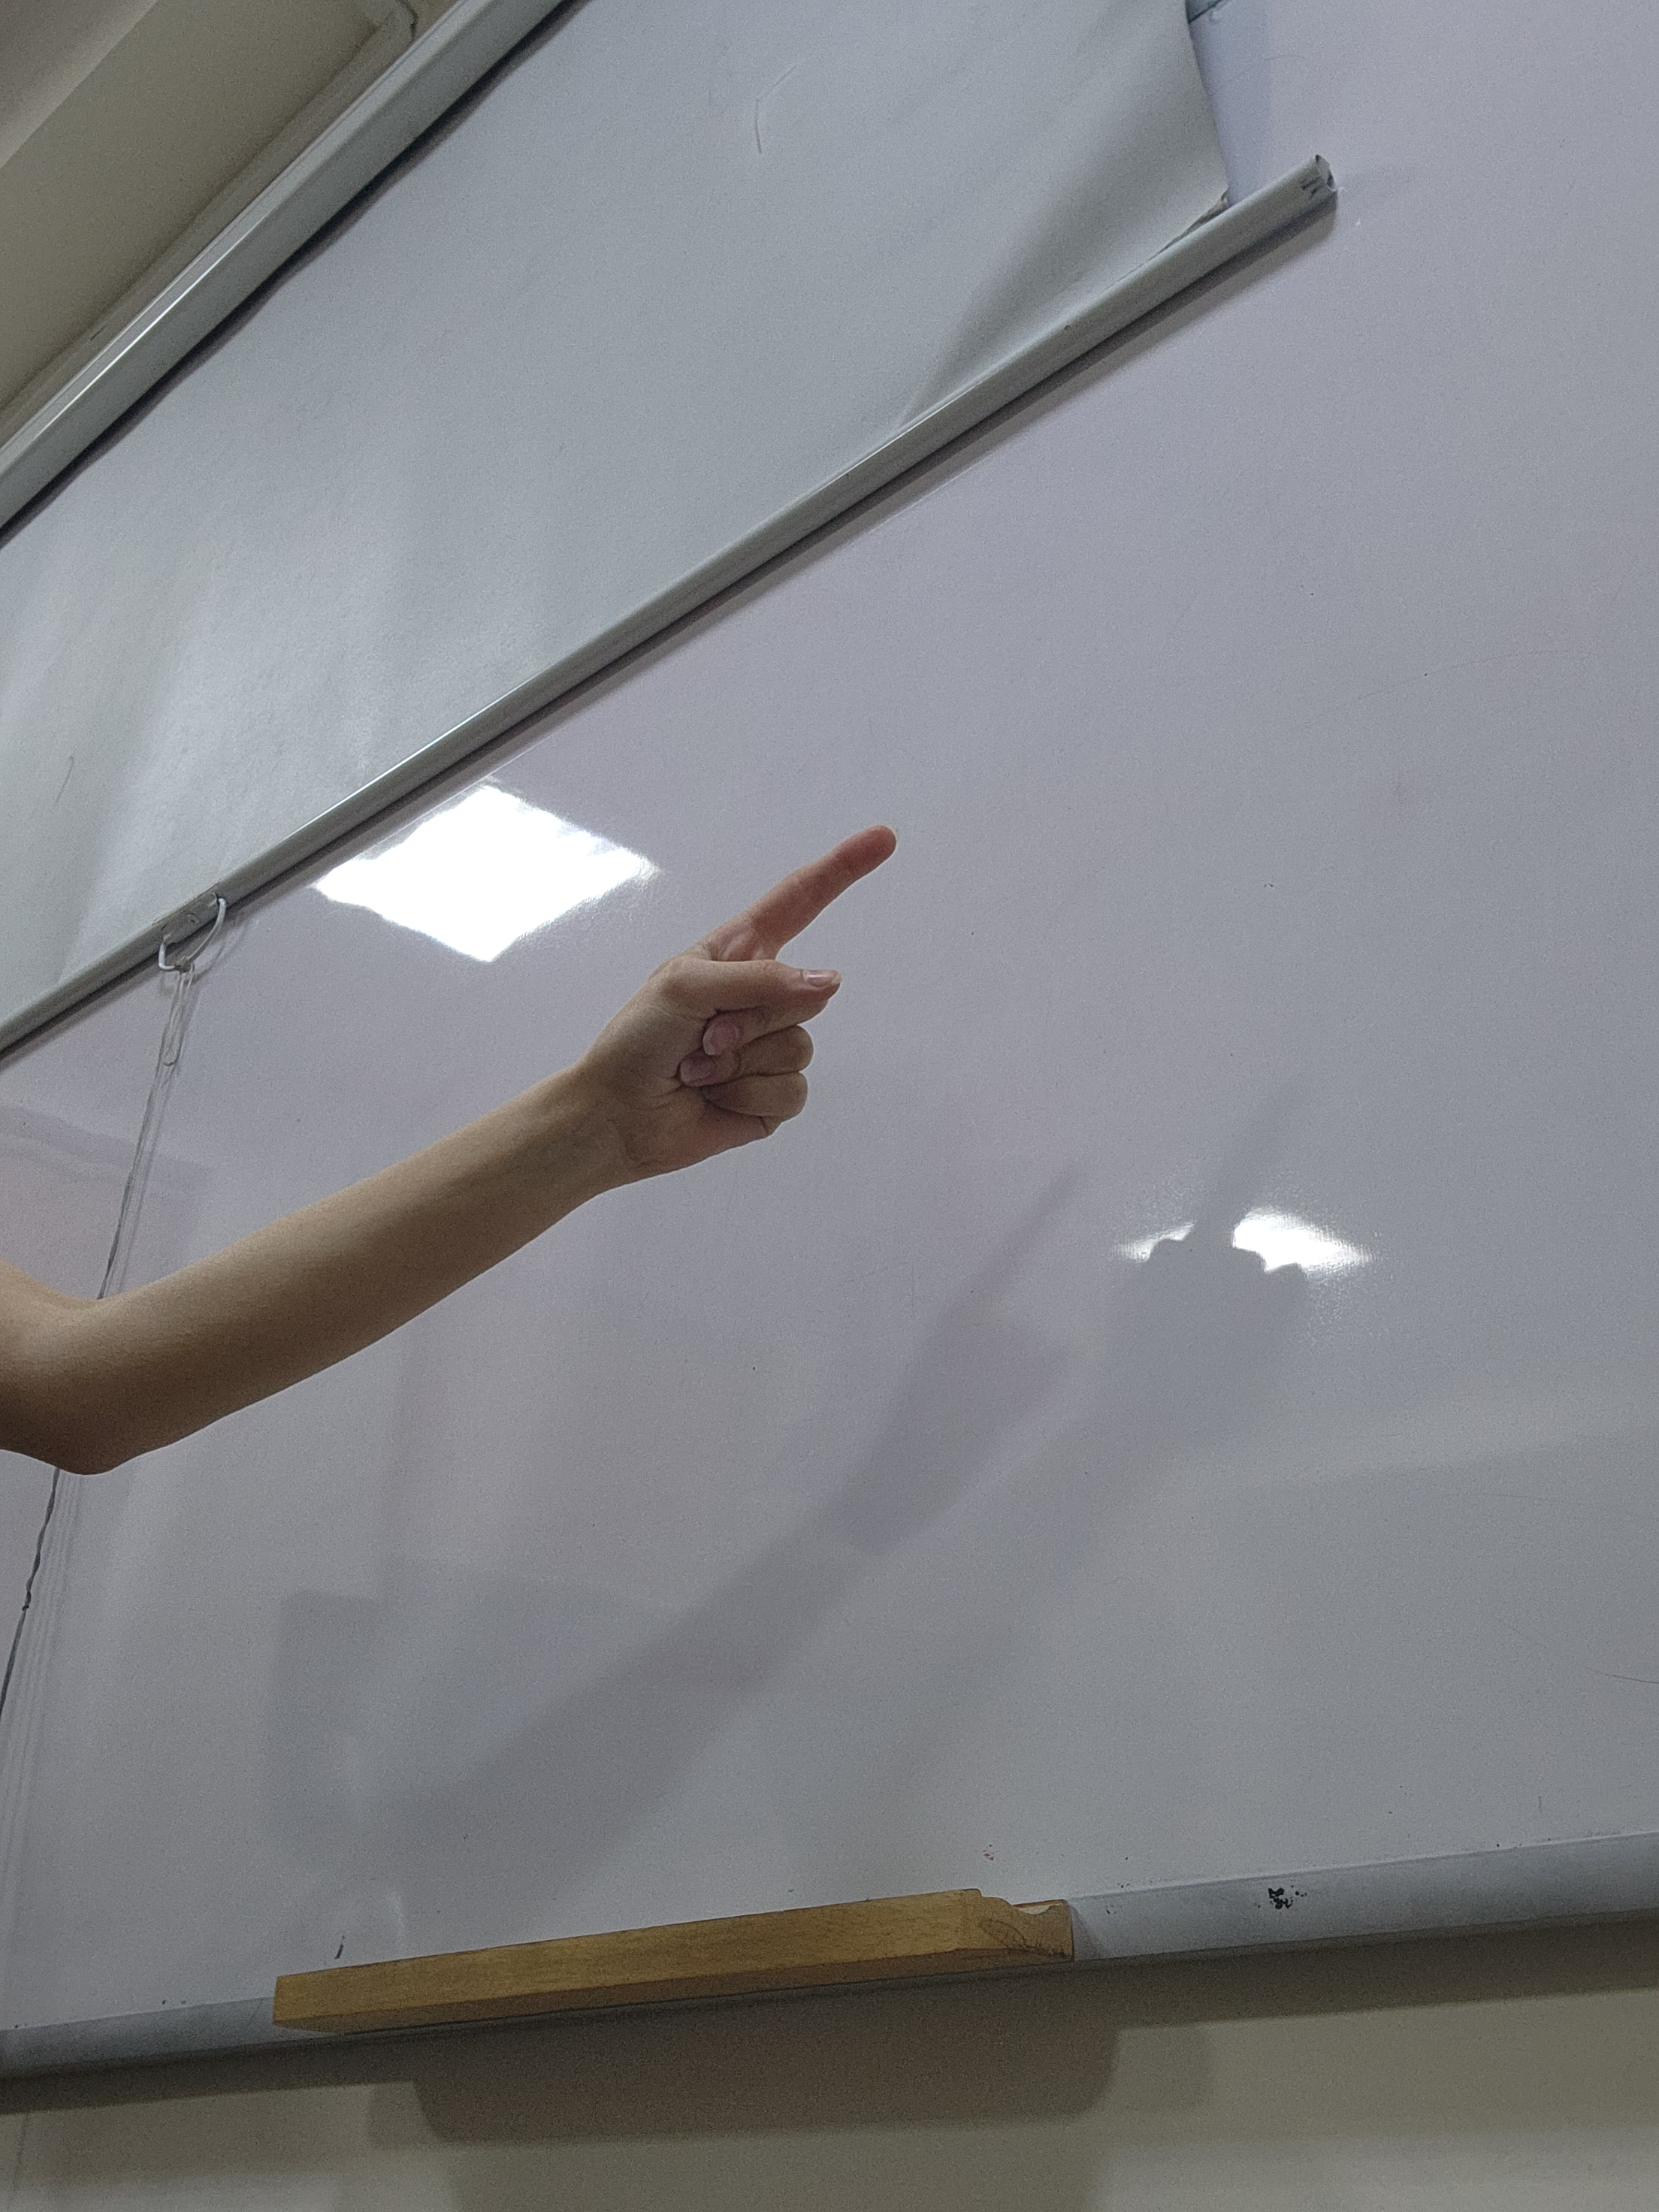pointing_gesture: (596, 826, 948, 1177)
